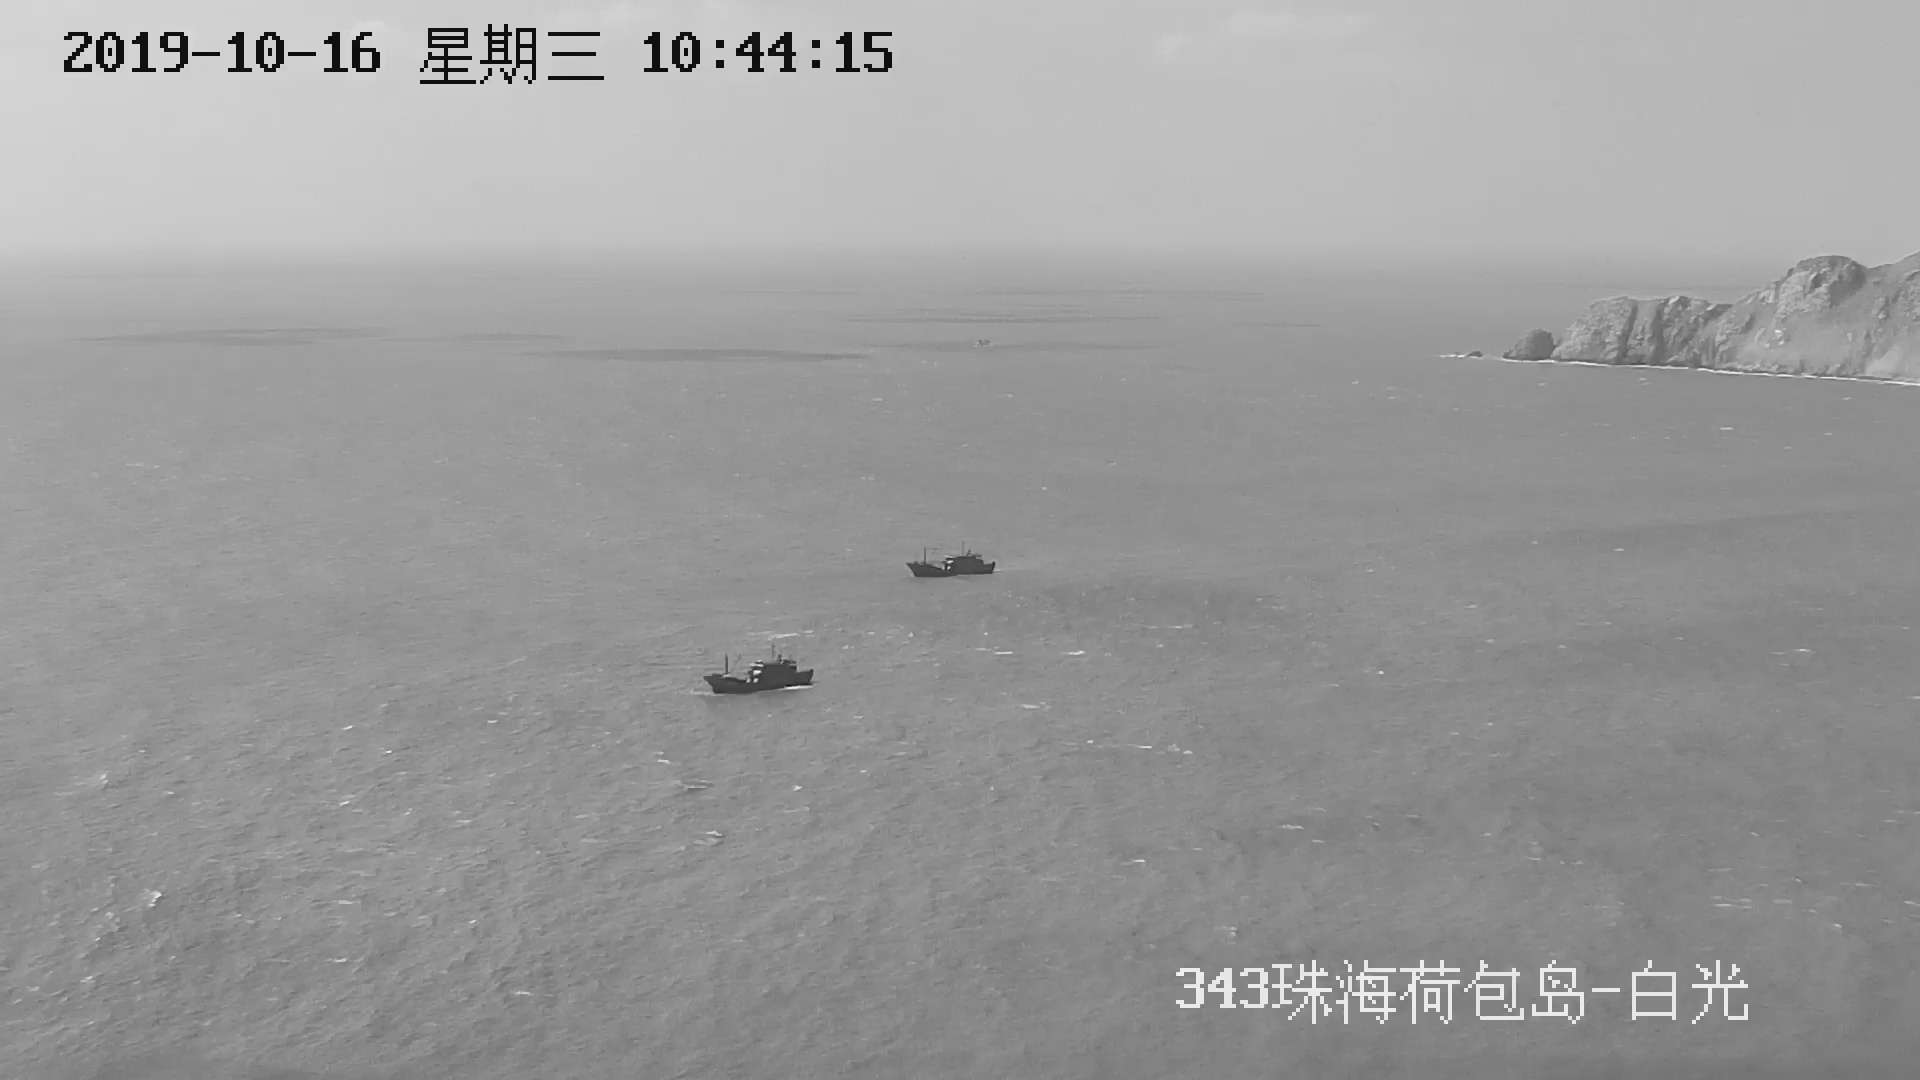ship: (705, 637, 816, 692), (905, 553, 997, 580)
